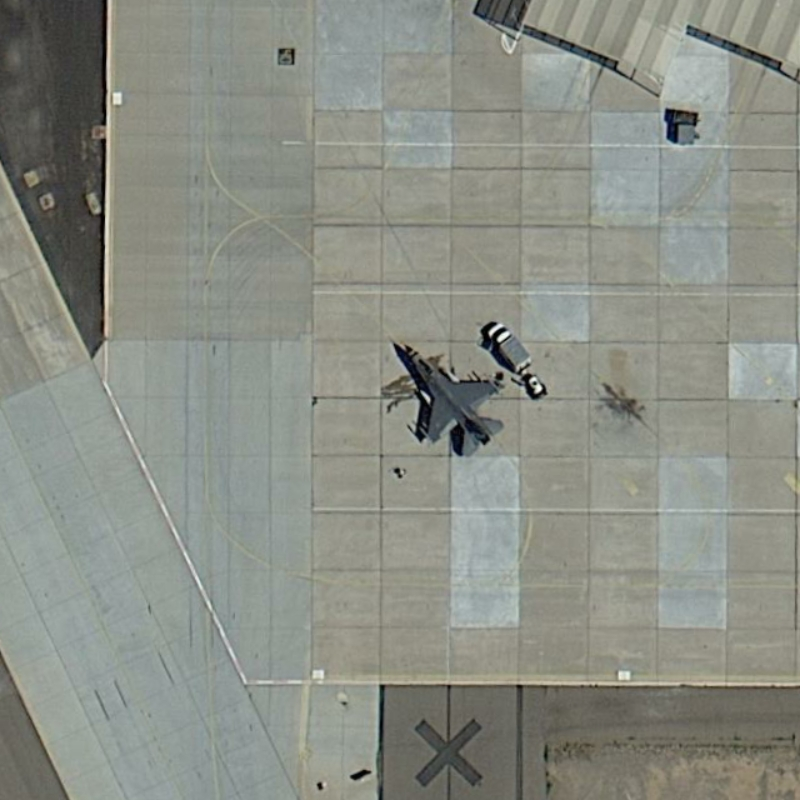A5: (393, 331, 514, 465)
